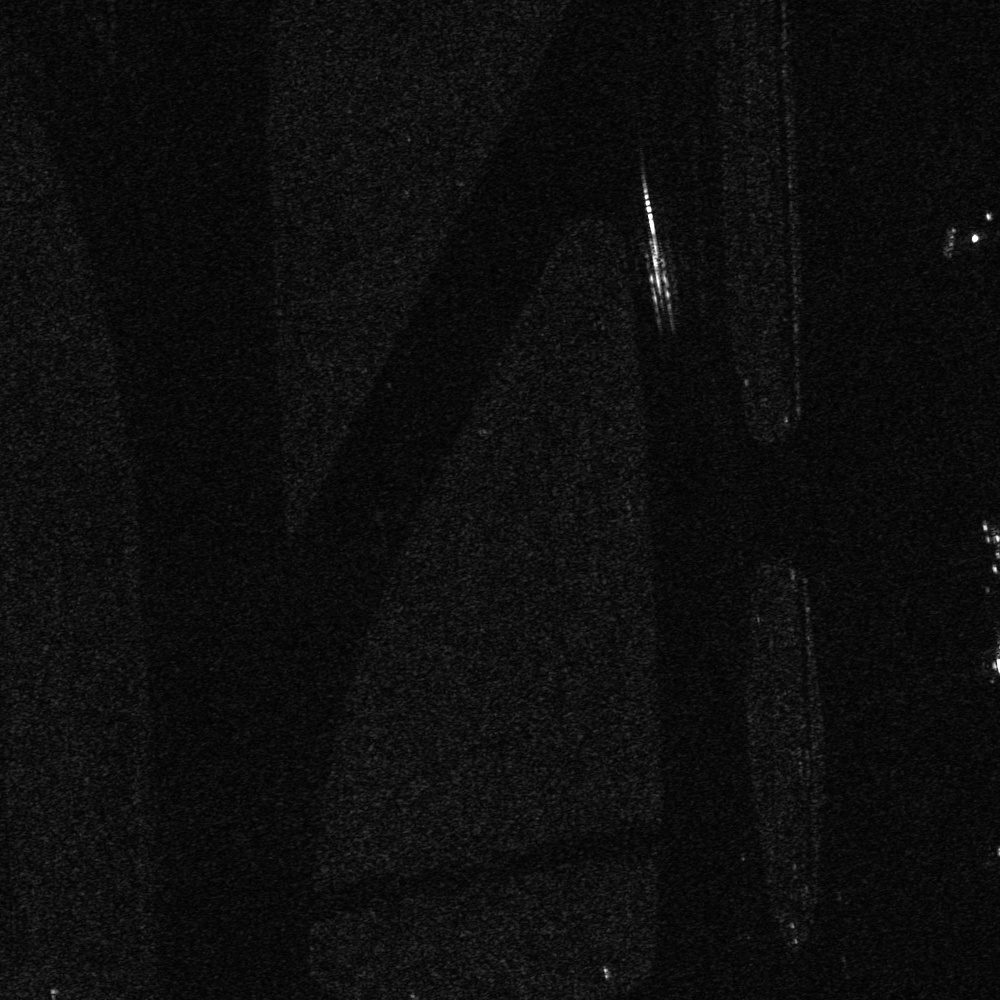ARJ21: (971, 641, 999, 684)
